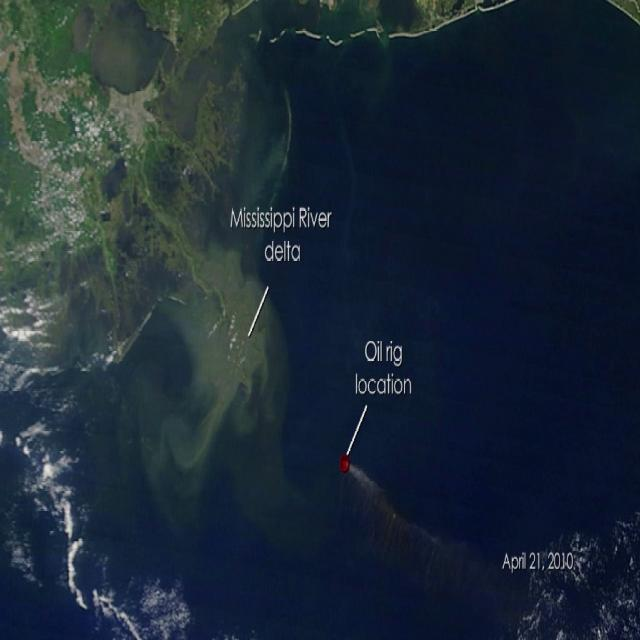oil spill: (125, 245, 319, 547), (345, 463, 514, 609)
